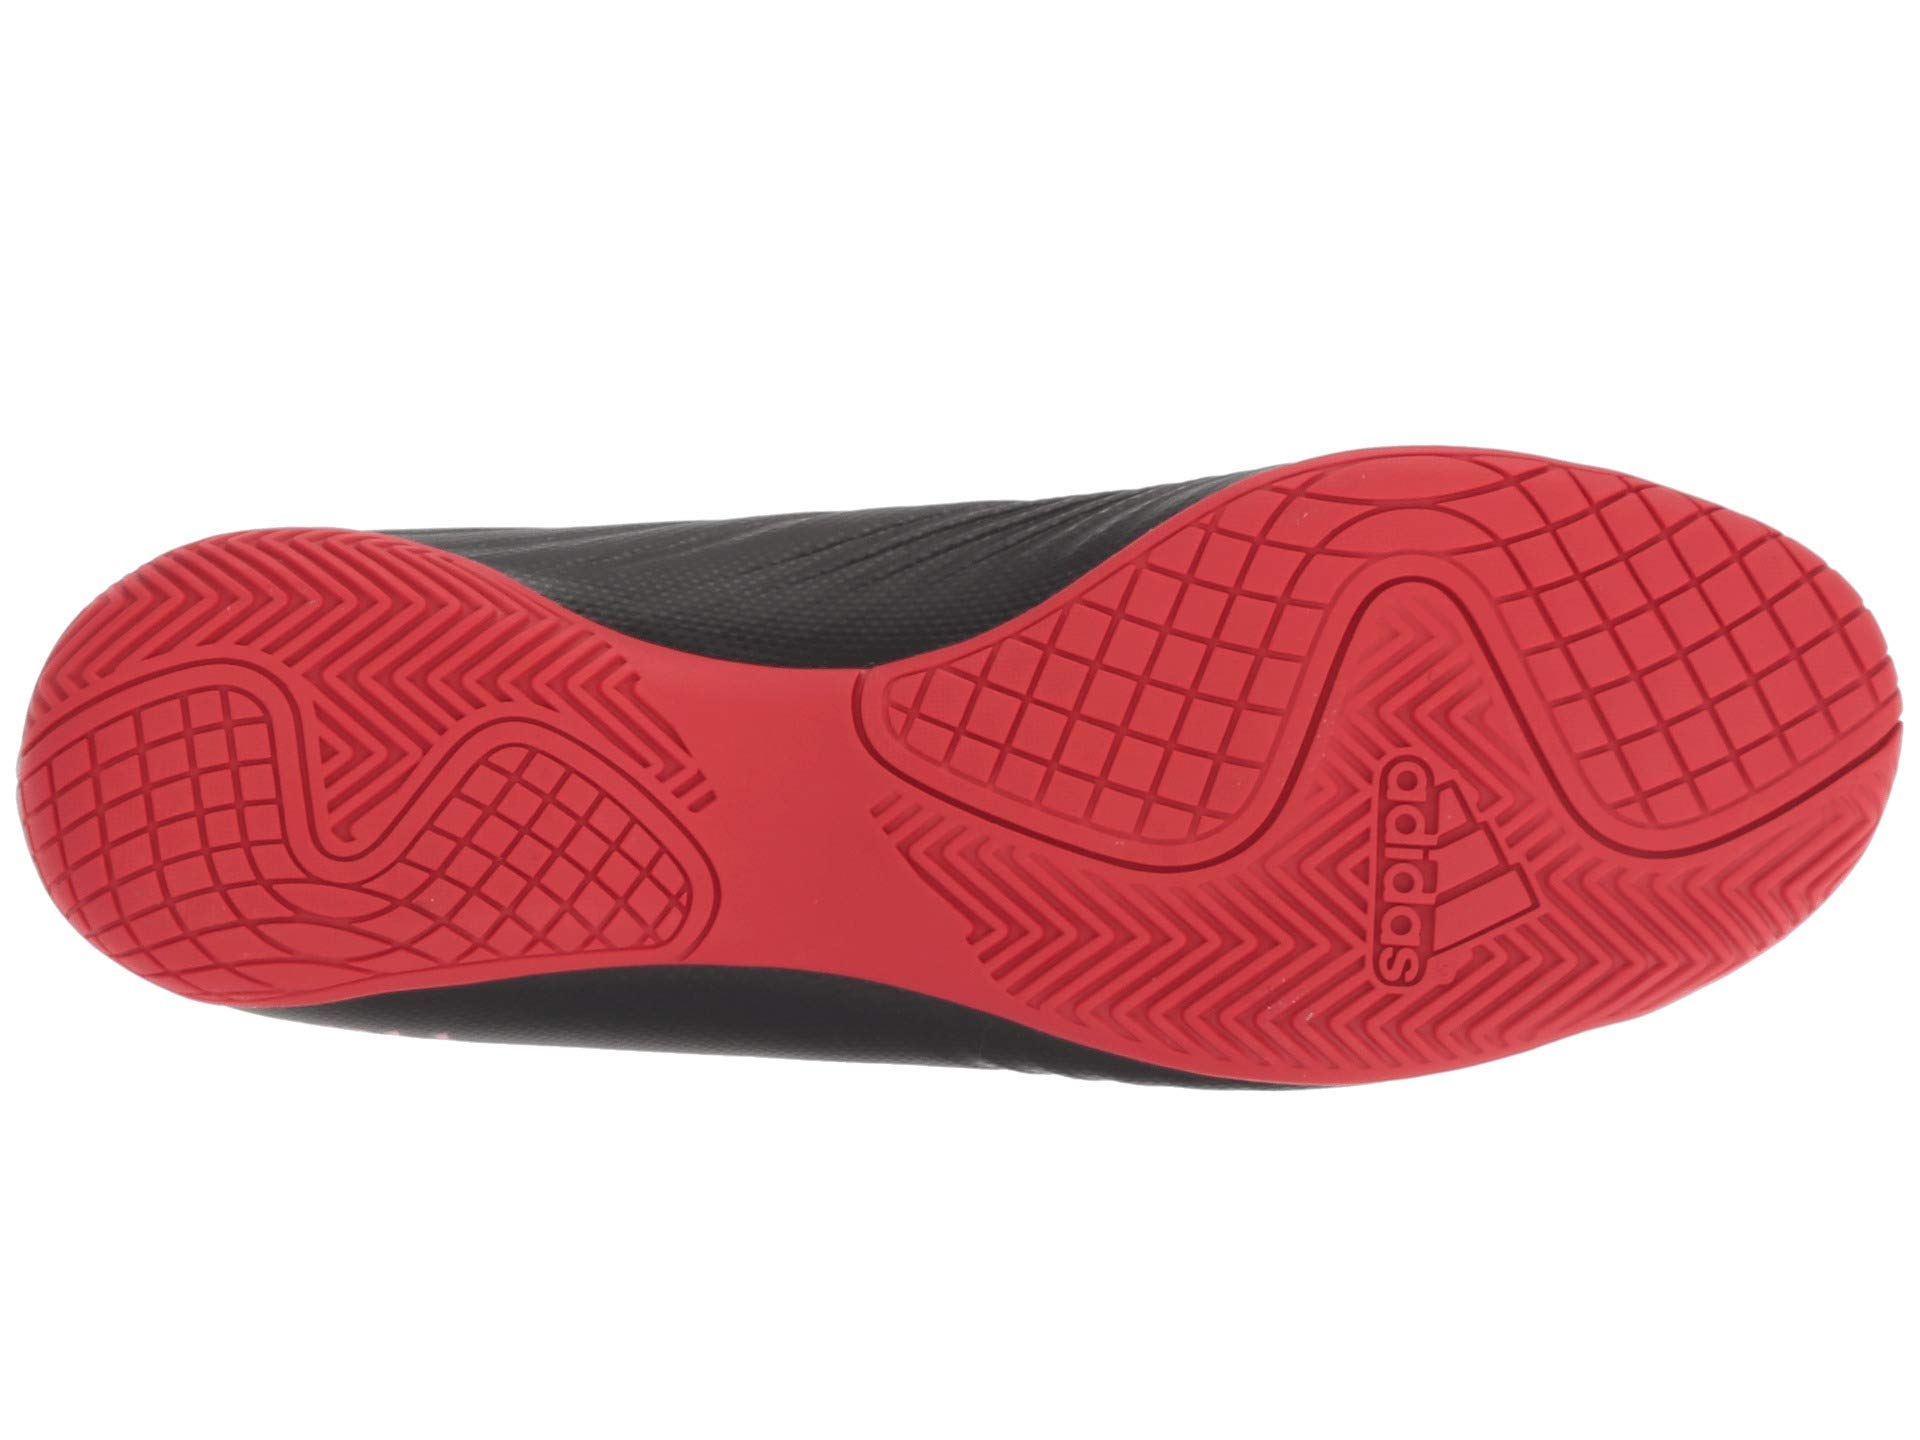chevron: (141, 593, 546, 942), (954, 652, 1305, 1000), (1338, 697, 1612, 988)
circle: (1338, 697, 1612, 988)
quad: (141, 593, 546, 942), (954, 652, 1305, 1000), (1338, 697, 1612, 988)
text: (1338, 697, 1612, 988)
triangle: (141, 593, 546, 942)
